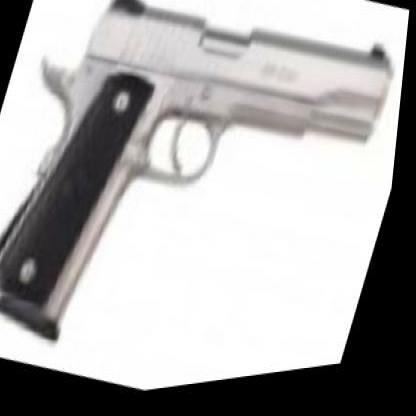pistol: (0, 0, 409, 415)
